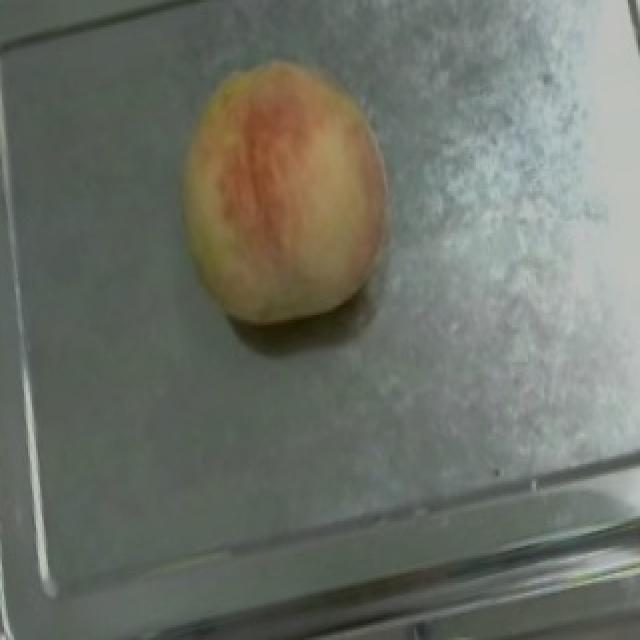Fruit: (140, 32, 426, 352)
